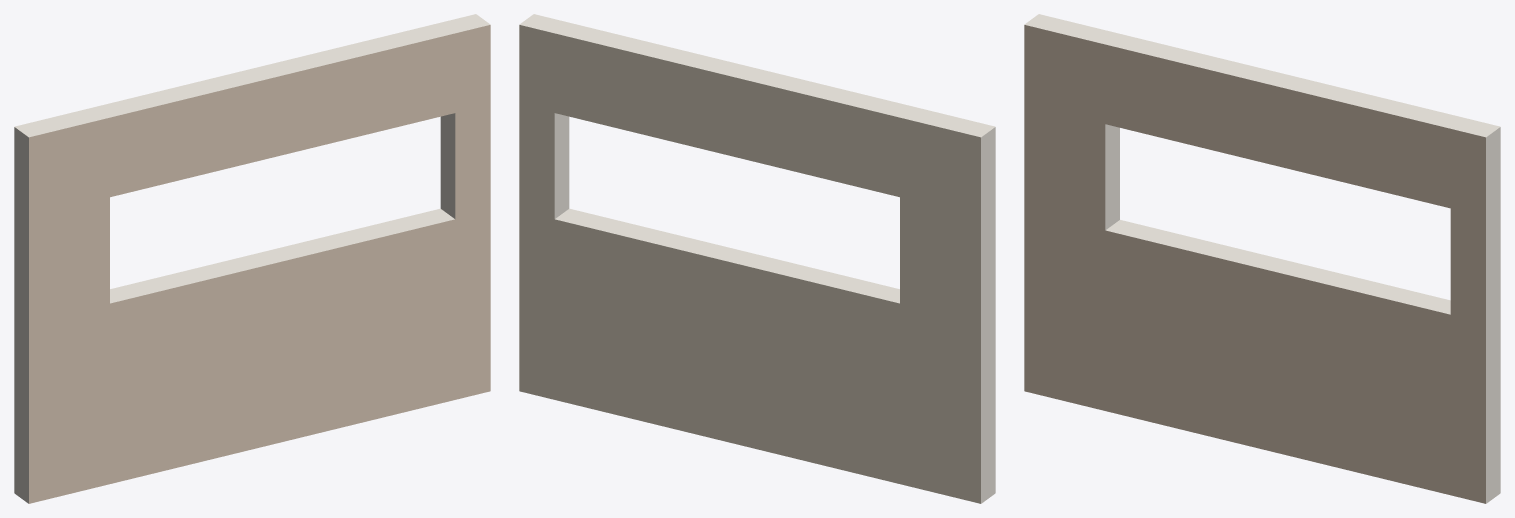
File: SM_Wall_Bedroom_North_001.fbx
3 renders of one model, left to right at view 1: azimuth 30°, elevation 25°; view 2: azimuth 150°, elevation 25°; view 3: azimuth 330°, elevation 25°, orthographic.
Visible parts, largest first — view 1: SM_Wall_Bedroom_North_001; view 2: SM_Wall_Bedroom_North_001; view 3: SM_Wall_Bedroom_North_001.
Boxes of the visible parts, x1,y1,x2,y2 form: SM_Wall_Bedroom_North_001: (14, 14, 490, 503); SM_Wall_Bedroom_North_001: (519, 14, 995, 503); SM_Wall_Bedroom_North_001: (1024, 14, 1500, 503).
Size of the model in its own units: 455 by 345 by 25.
